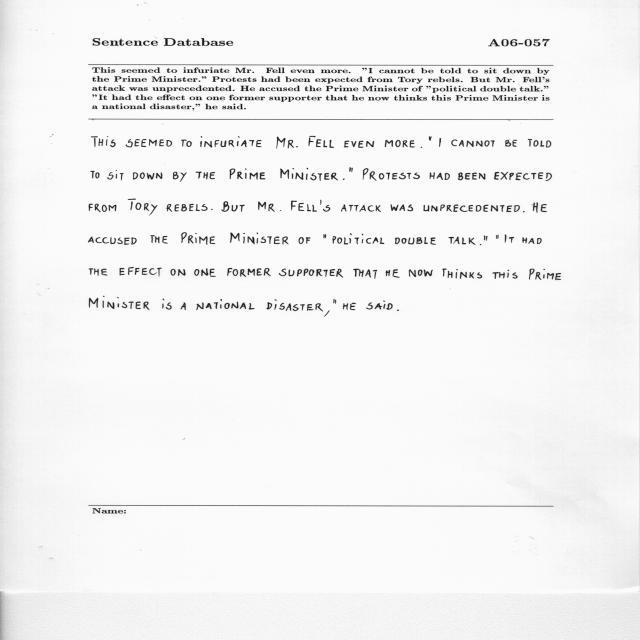word: (90, 296, 150, 310), (423, 204, 520, 212), (280, 168, 338, 181), (200, 136, 262, 148), (363, 168, 420, 181), (230, 233, 289, 245), (267, 300, 323, 312), (196, 299, 255, 310), (332, 233, 384, 245), (279, 269, 343, 278), (494, 172, 552, 181), (128, 199, 157, 216), (291, 200, 330, 212), (181, 232, 215, 245), (88, 236, 137, 245), (443, 269, 483, 279), (227, 268, 271, 277), (230, 169, 265, 180), (120, 268, 162, 277), (126, 139, 172, 147), (529, 269, 561, 280), (166, 204, 208, 212), (395, 237, 436, 245), (341, 204, 381, 212), (308, 136, 334, 148), (451, 140, 495, 147), (91, 137, 116, 148), (276, 137, 298, 149), (221, 201, 245, 212), (366, 301, 393, 310), (385, 140, 415, 148), (353, 269, 377, 279), (492, 270, 518, 279), (133, 172, 162, 180), (258, 202, 281, 212), (458, 173, 486, 181), (89, 204, 117, 212), (449, 237, 476, 245), (344, 141, 374, 148), (194, 268, 216, 277), (528, 139, 552, 147), (409, 270, 433, 278), (107, 170, 124, 181), (150, 235, 168, 244), (391, 205, 414, 212), (195, 172, 215, 180), (430, 172, 450, 180), (533, 202, 547, 213), (89, 268, 107, 276), (173, 172, 187, 182), (522, 237, 542, 244), (385, 269, 400, 278), (162, 299, 172, 310), (171, 269, 186, 276), (343, 303, 356, 310), (181, 139, 192, 147), (505, 140, 517, 147), (299, 237, 311, 244), (505, 234, 514, 243), (91, 171, 100, 179), (324, 310, 330, 317), (181, 303, 186, 310), (439, 138, 441, 147), (349, 168, 353, 172), (429, 136, 432, 141), (484, 236, 487, 241), (333, 299, 336, 304), (324, 235, 327, 239), (496, 235, 498, 239), (343, 178, 345, 180), (523, 211, 525, 213), (211, 209, 213, 210), (397, 310, 399, 311), (421, 147, 422, 148), (480, 244, 481, 245)
